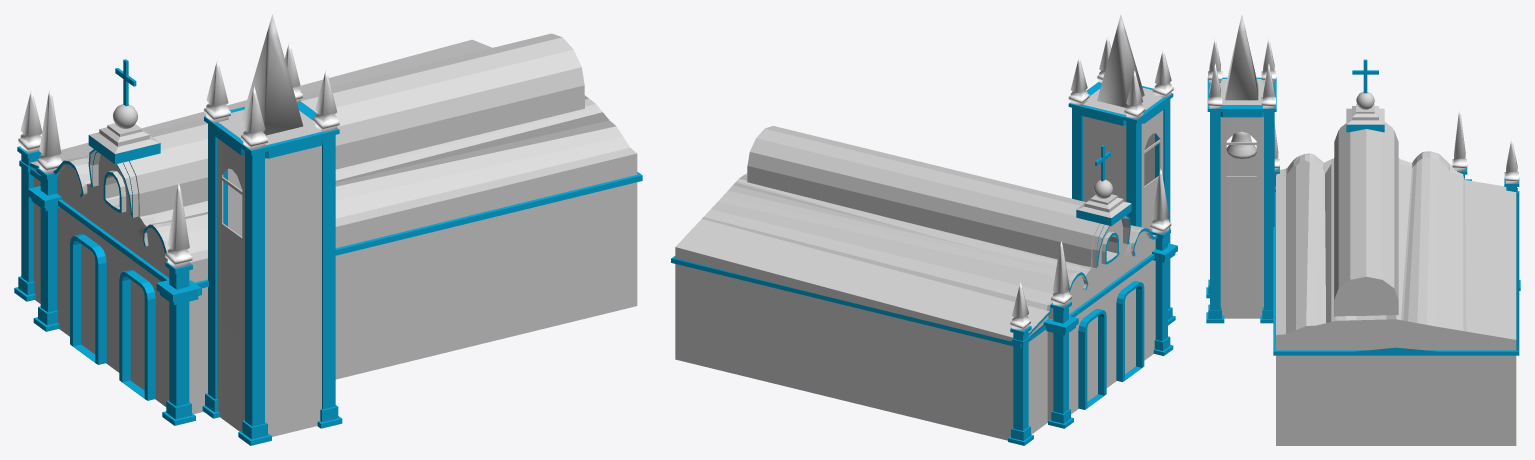
The model's file is Igreja2.fbx.
3 views of the same model, side by side, from view 1: azimuth 30°, elevation 25°; view 2: azimuth 150°, elevation 25°; view 3: azimuth 270°, elevation 25° (orthographic). The views are drawn at different scales.
Parts seen in each view (by area): view 1: Cube.059, Cylinder.001, Cube.062, Cube.067, Cube.068, Cube.063, Cone.001, Cube.066, Cube.064, Cube.060, Cube.061, Cube.065 (+7 smaller); view 2: Cube.059, Cylinder.001, Cube.062, Cube.064, Cube.066, Cone.001, Cube.065, Cube.060, Cube.063, Cube.061, Cube.067, Cube.069 (+7 smaller); view 3: Cube.059, Cylinder.001, Cube.062, Cube.068, Cube.069, Cone.001, Cube.071, Circle, Cone.007, Cone.005, Cone.004, Cone.008 (+2 smaller).
Part boxes in pixels (x1,y1,x2,y2): Cube.059: [29, 39, 642, 413]; Cylinder.001: [88, 33, 584, 222]; Cube.062: [217, 110, 321, 436]; Cube.067: [227, 133, 295, 445]; Cube.068: [293, 112, 342, 428]; Cube.063: [156, 261, 201, 425]; Cone.001: [241, 14, 302, 135]; Cube.066: [202, 106, 244, 418]; Cube.064: [28, 167, 61, 331]; Cube.060: [70, 234, 106, 364]; Cube.061: [119, 270, 155, 400]; Cube.065: [14, 146, 41, 301]; Cube.059: [671, 173, 1157, 440]; Cylinder.001: [747, 126, 1130, 271]; Cube.062: [1083, 88, 1163, 230]; Cube.064: [1043, 302, 1078, 428]; Cube.066: [1102, 106, 1155, 227]; Cone.001: [1097, 14, 1144, 107]; Cube.065: [1008, 326, 1033, 445]; Cube.060: [1078, 309, 1106, 409]; Cube.063: [1151, 229, 1177, 355]; Cube.061: [1116, 281, 1144, 381]; Cube.067: [1142, 86, 1175, 325]; Cube.069: [1068, 90, 1104, 201]; Cube.059: [1273, 151, 1519, 445]; Cylinder.001: [1334, 122, 1398, 316]; Cube.062: [1219, 79, 1264, 318]; Cube.068: [1206, 93, 1242, 323]; Cube.069: [1242, 93, 1276, 323]; Cone.001: [1225, 15, 1258, 100]; Cube.071: [1346, 104, 1384, 132]; Circle: [1226, 131, 1256, 158]; Cone.007: [1452, 110, 1466, 170]; Cone.005: [1261, 63, 1275, 108]; Cone.004: [1208, 63, 1222, 108]; Cone.008: [1504, 138, 1518, 183].
Bounding box in the file's own units: 1083 × 874 × 847.
